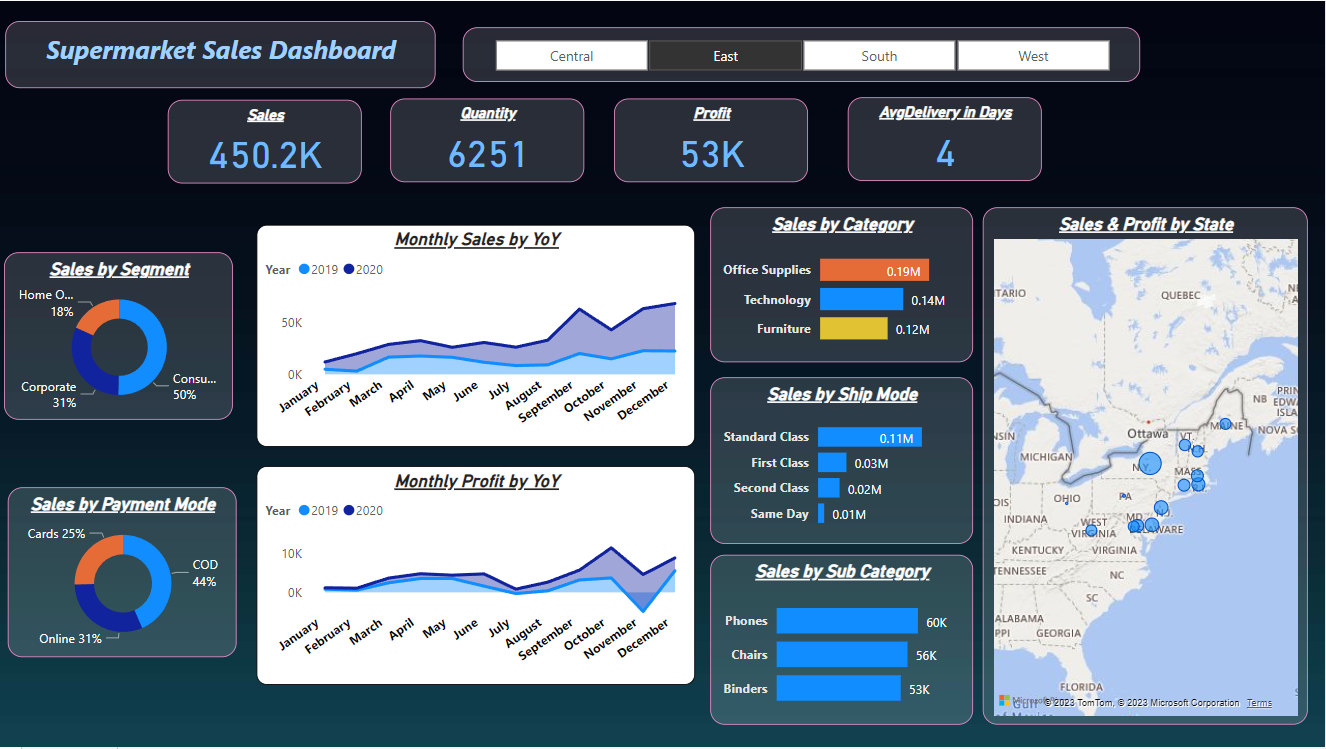

This screenshot's page, from the dashboard's own definition file:
{"tool":"powerbi","page":{"name":"Page 1","canvas":[1280,720],"ordinal":0},"visuals":[{"type":"clusteredBarChart","title":"Sales by Category","fields":{"Category":["SuperStore_Sales_Dataset.Category"],"Y":["Sum(SuperStore_Sales_Dataset.Sales)"]},"box":[686.2,199,253.3,149.5],"z":0},{"type":"clusteredBarChart","title":"Sales by Sub Category","fields":{"Category":["SuperStore_Sales_Dataset.Sub-Category"],"Y":["Sum(SuperStore_Sales_Dataset.Sales)"]},"box":[686.2,534.3,253.3,164],"z":1000},{"type":"stackedAreaChart","title":"Monthly Sales by YoY","fields":{"Category":["SuperStore_Sales_Dataset.Order Date.Variation.Date Hierarchy.Month","SuperStore_Sales_Dataset.Order Date.Variation.Date Hierarchy.Day"],"Y":["Sum(SuperStore_Sales_Dataset.Sales)"],"Series":["SuperStore_Sales_Dataset.Order Date.Variation.Date Hierarchy.Year"]},"box":[248.4,215.9,423.3,214.7],"z":2000},{"type":"stackedAreaChart","title":"Monthly Profit by YoY","fields":{"Category":["SuperStore_Sales_Dataset.Order Date.Variation.Date Hierarchy.Month","SuperStore_Sales_Dataset.Order Date.Variation.Date Hierarchy.Day"],"Series":["SuperStore_Sales_Dataset.Order Date.Variation.Date Hierarchy.Year"],"Y":["Sum(SuperStore_Sales_Dataset.Profit)"]},"box":[248.4,448.6,423.3,211.1],"z":3000},{"type":"card","title":"Sales","fields":{"Values":["Sum(SuperStore_Sales_Dataset.Sales)"]},"box":[162.8,95.3,186.9,80.8],"z":4000},{"type":"donutChart","title":"Sales by Segment","fields":{"Category":["SuperStore_Sales_Dataset.Segment"],"Y":["Sum(SuperStore_Sales_Dataset.Sales)"]},"box":[4.8,242.4,220.7,161.6],"z":5000},{"type":"slicer","title":"Sales by Payment Mode","fields":{"Values":["SuperStore_Sales_Dataset.Region"]},"box":[447.4,25.3,653.7,53.1],"z":6000},{"type":"donutChart","title":"Sales by Payment Mode","fields":{"Category":["SuperStore_Sales_Dataset.Payment Mode"],"Y":["Sum(SuperStore_Sales_Dataset.Sales)"]},"box":[8.4,469.1,220.7,164],"z":7000},{"type":"textbox","box":[6,19.3,414.9,65.1],"z":8000},{"type":"clusteredBarChart","title":"Sales by Ship Mode","fields":{"Y":["Sum(SuperStore_Sales_Dataset.Sales)"],"Category":["SuperStore_Sales_Dataset.Ship Mode"]},"box":[686.2,363,253.3,160.4],"z":9000},{"type":"card","title":"Profit","fields":{"Values":["Sum(SuperStore_Sales_Dataset.Profit)"]},"box":[593.4,94.1,186.9,80.8],"z":10000},{"type":"map","title":"Sales & Profit by State","fields":{"Category":["SuperStore_Sales_Dataset.State"],"Size":["Sum(SuperStore_Sales_Dataset.Profit)"]},"box":[949.1,199,313.6,499.3],"z":11000},{"type":"card","title":"Quantity","fields":{"Values":["Sum(SuperStore_Sales_Dataset.Quantity)"]},"box":[377.5,94.1,186.9,80.8],"z":12000},{"type":"card","title":"AvgDelivery in Days","fields":{"Values":["Avg(SuperStore_Sales_Dataset.AvgDelivery)"]},"box":[818.9,92.9,186.9,80.8],"z":13000}]}

Visuals, with their boxes in screenshot pixels (x1, y1, x2, y2), scaled from the page's 1280x720 canvas onto the 1326x749 screenshot:
"Sales by Category" clusteredBarChart: 711:207:973:363
"Sales by Sub Category" clusteredBarChart: 711:556:973:726
"Monthly Sales by YoY" stackedAreaChart: 257:225:696:448
"Monthly Profit by YoY" stackedAreaChart: 257:467:696:686
"Sales" card: 169:99:362:183
"Sales by Segment" donutChart: 5:252:234:420
"Sales by Payment Mode" slicer: 463:26:1141:82
"Sales by Payment Mode" donutChart: 9:488:237:659
textbox: 6:20:436:88
"Sales by Ship Mode" clusteredBarChart: 711:378:973:544
"Profit" card: 615:98:808:182
"Sales & Profit by State" map: 983:207:1308:726
"Quantity" card: 391:98:585:182
"AvgDelivery in Days" card: 848:97:1042:181
